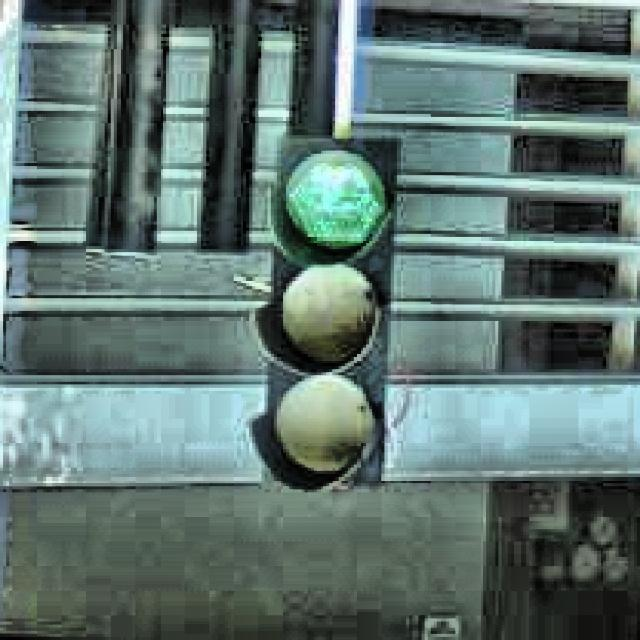green: (246, 132, 419, 496)
